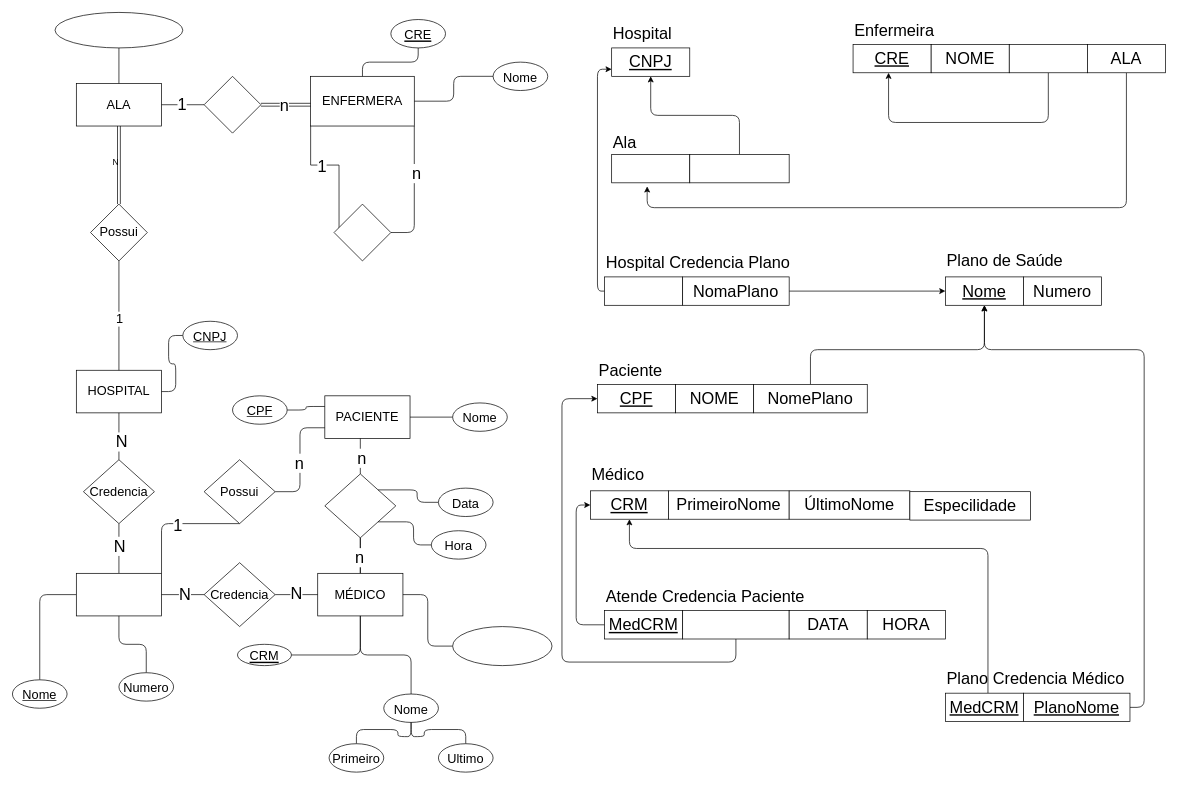
This 1178x785 diagram has some shape labels left out. Each missing label, with the centre of its shape:
Atende: pixel 232 104
CHEFE: pixel 1048 58
Chefia: pixel 362 232
Cunsulta: pixel 360 505
Especialidade: pixel 502 646
HosCNPJ: pixel 643 290
HospCNPJ: pixel 739 168
ID: pixel 650 168
IDENTIFICADOR: pixel 118 30
PacCPF: pixel 735 624
PLANO DE SAUDE: pixel 119 594
